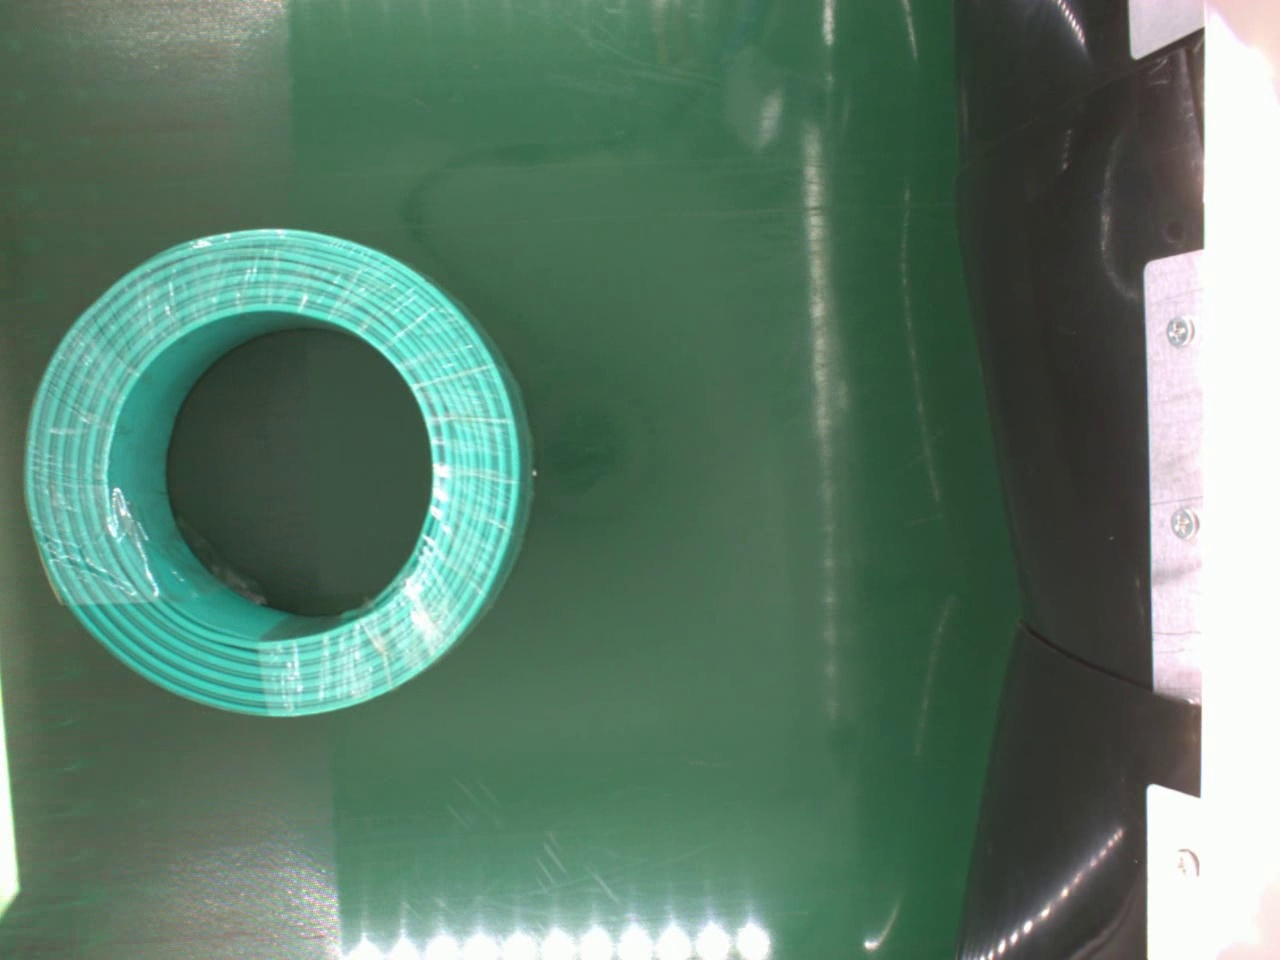green: (22, 224, 535, 718)
